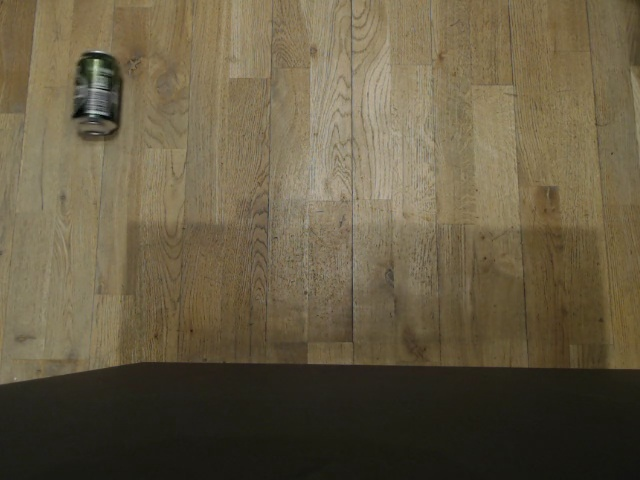beer: (68, 48, 125, 143)
